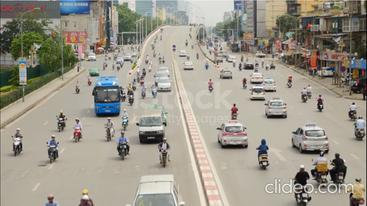bus: (92, 76, 123, 120)
car: (127, 173, 185, 206), (290, 123, 336, 155), (135, 109, 167, 145), (214, 121, 251, 149), (264, 99, 291, 119), (258, 75, 280, 95), (155, 76, 174, 94), (248, 86, 268, 102), (249, 71, 267, 86)
motorcycle: (293, 184, 314, 206), (45, 140, 60, 165), (157, 144, 171, 169), (316, 165, 329, 189), (10, 134, 23, 156), (353, 121, 366, 142), (258, 151, 271, 171), (334, 168, 348, 186), (314, 96, 327, 114), (118, 140, 128, 159), (71, 125, 81, 144), (55, 115, 66, 132), (229, 108, 240, 123), (105, 124, 114, 141), (127, 89, 136, 105), (120, 115, 129, 130), (150, 84, 159, 99), (300, 91, 309, 104), (241, 79, 250, 92), (349, 110, 358, 121), (140, 86, 147, 98), (207, 81, 214, 93), (74, 83, 81, 94)
